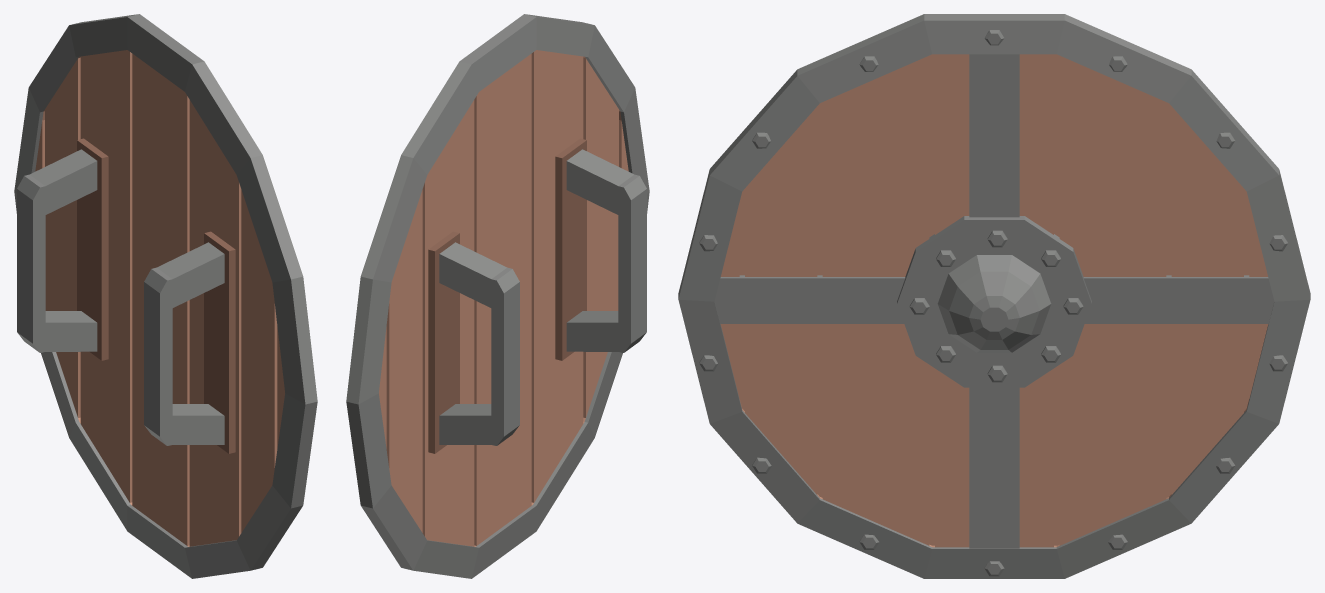
The model's file is Shield B.glb.
3 views of the same model, side by side, from view 1: azimuth 30°, elevation 25°; view 2: azimuth 150°, elevation 25°; view 3: azimuth 270°, elevation 25° (orthographic). The views are drawn at different scales.
Parts seen in each view (by area): view 1: Shield B; view 2: Shield B; view 3: Shield B.
Boxes of the visible parts, x1,y1,x2,y2 form: Shield B: [14, 14, 317, 578]; Shield B: [346, 14, 649, 578]; Shield B: [678, 14, 1310, 578].
Bounding box in the file's own units: 27.08 × 110 × 113.
